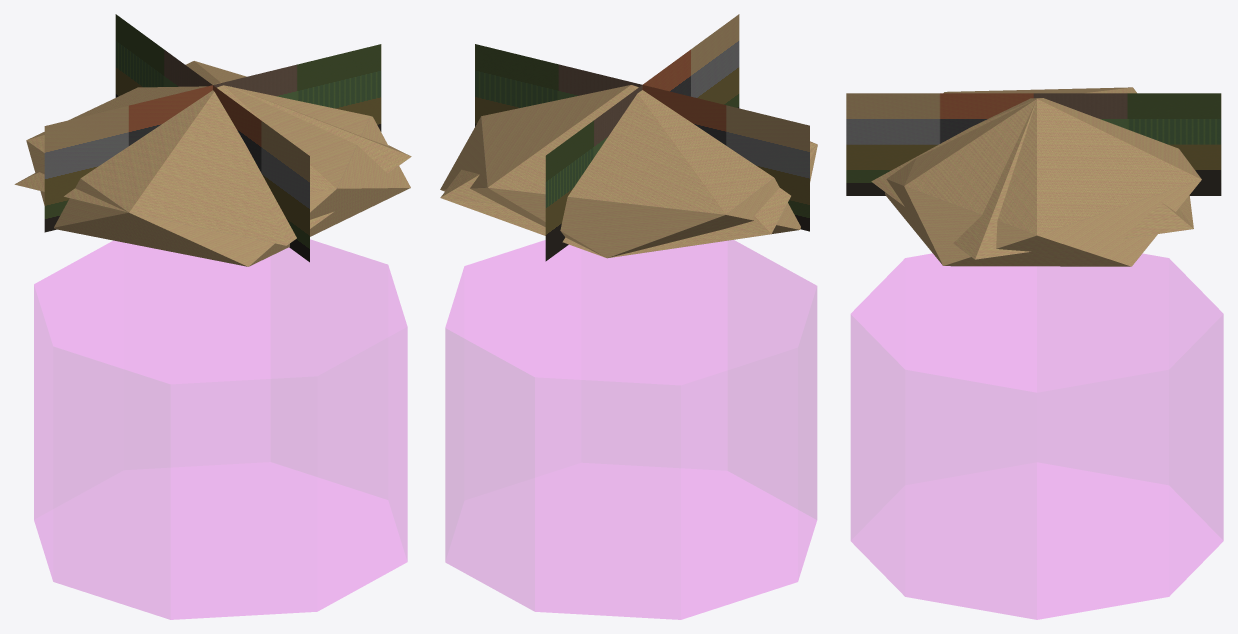
The model's file is rock_small_tan_a.dae.
3 renders of one model, left to right at view 1: azimuth 30°, elevation 25°; view 2: azimuth 150°, elevation 25°; view 3: azimuth 270°, elevation 25°, orthographic. The views are drawn at different scales.
Visible parts, largest first — view 1: Colmesh_rock-1, rock_small_tan_a_a800, rock_small_tan_a_a50, rock_small_tan_a_a200; view 2: Colmesh_rock-1, rock_small_tan_a_a800, rock_small_tan_a_a50, rock_small_tan_a_a200; view 3: Colmesh_rock-1, rock_small_tan_a_a800, rock_small_tan_a_a50, rock_small_tan_a_a200.
Boxes of the visible parts, x1,y1,x2,y2 form: Colmesh_rock-1: [34, 239, 407, 619]; rock_small_tan_a_a800: [26, 61, 410, 266]; rock_small_tan_a_a50: [44, 14, 381, 262]; rock_small_tan_a_a200: [14, 83, 411, 245]; Colmesh_rock-1: [445, 240, 816, 619]; rock_small_tan_a_a800: [440, 85, 817, 258]; rock_small_tan_a_a50: [475, 14, 809, 261]; rock_small_tan_a_a200: [440, 141, 817, 257]; Colmesh_rock-1: [851, 253, 1223, 619]; rock_small_tan_a_a800: [885, 87, 1201, 266]; rock_small_tan_a_a50: [846, 93, 1221, 195]; rock_small_tan_a_a200: [871, 92, 1193, 259].
Size of the model in its own units: 0.5103 by 0.5007 by 0.6487.
Materials: 2 (1 with a texture image).
